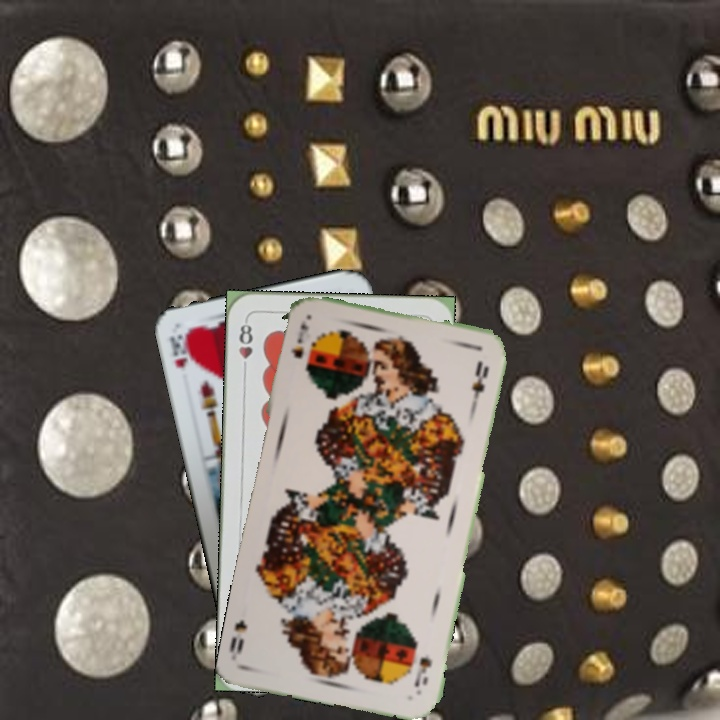H8: (235, 316, 255, 375)
HK: (165, 330, 195, 371)
SO: (286, 318, 311, 361), (410, 652, 435, 689)
